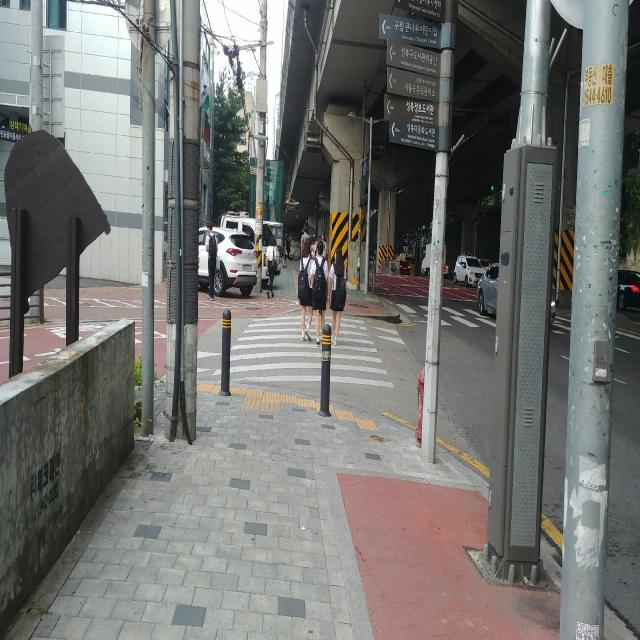횡단보도: (212, 316, 395, 388), (391, 302, 491, 328)
